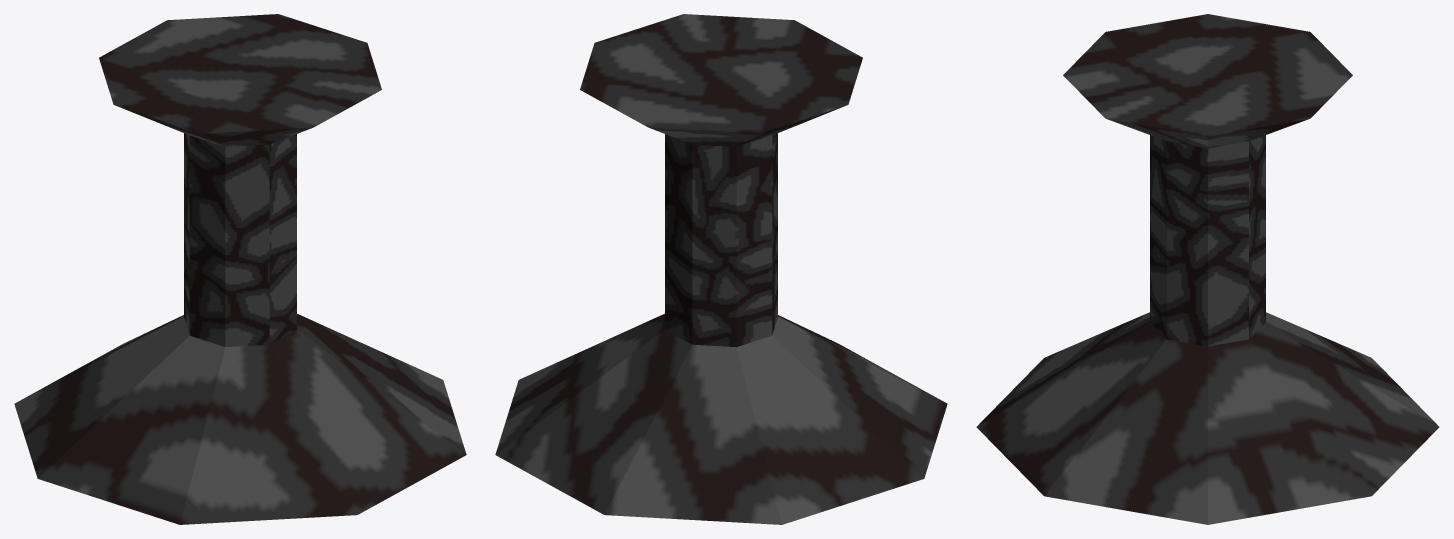
Rendered from pedestal.fbx.
3 renders of one model, left to right at view 1: azimuth 30°, elevation 25°; view 2: azimuth 150°, elevation 25°; view 3: azimuth 270°, elevation 25°, orthographic.
Parts seen in each view (by area): view 1: Cylinder; view 2: Cylinder; view 3: Cylinder.
Part boxes in pixels (bbox=[...]): Cylinder: bbox=[14, 14, 466, 524]; Cylinder: bbox=[495, 14, 947, 524]; Cylinder: bbox=[976, 14, 1439, 524].
Bounding box in the file's own units: 83.77 × 100 × 100.
Materials: 1 (1 with a texture image).
